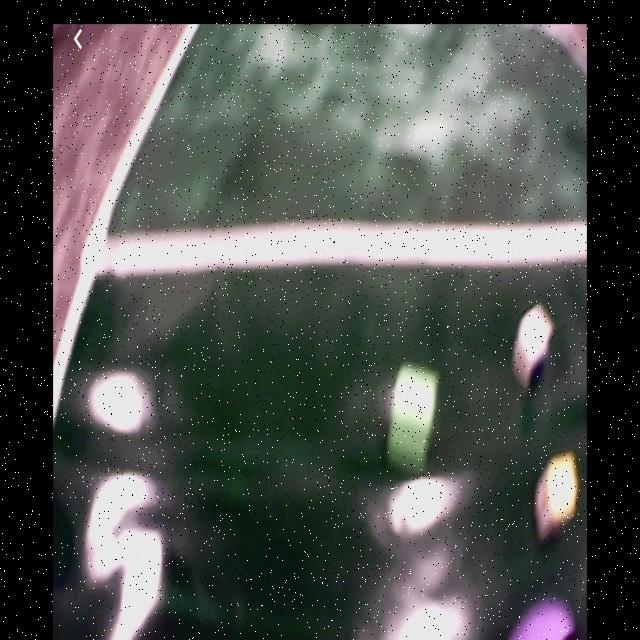ball: (513, 600, 574, 640)
